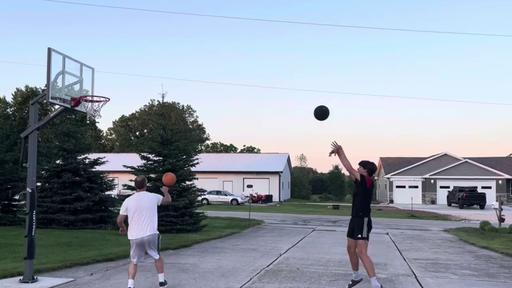ball: (314, 105, 330, 120), (162, 170, 177, 186)
human: (328, 142, 384, 288), (117, 177, 171, 288)
rim: (81, 94, 110, 119)
